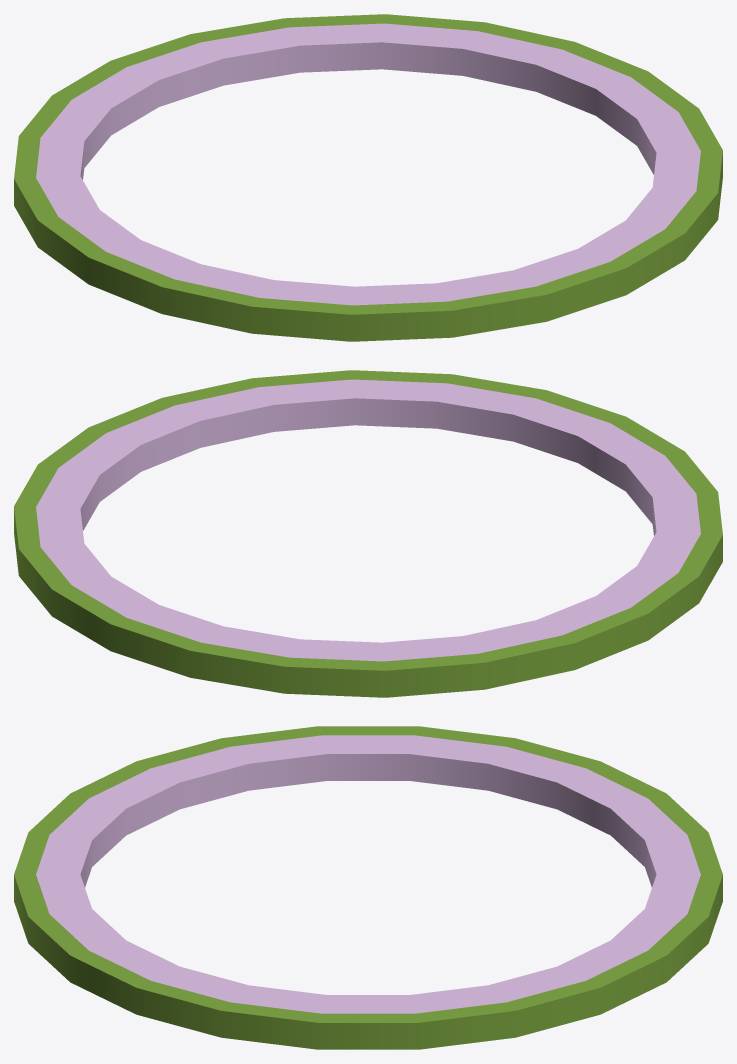
File: Onion Slice Green.fbx
3 views of the same model, one above another, from view 1: azimuth 30°, elevation 25°; view 2: azimuth 150°, elevation 25°; view 3: azimuth 270°, elevation 25° (orthographic).
Visible parts, largest first — view 1: Onion Slice Green; view 2: Onion Slice Green; view 3: Onion Slice Green.
Part boxes in pixels (<box>): Onion Slice Green: <box>14,14,722,341</box>; Onion Slice Green: <box>14,370,722,697</box>; Onion Slice Green: <box>14,726,722,1049</box>.
Bounding box in the file's own units: 0.3002 × 0.0127 × 0.3033.
